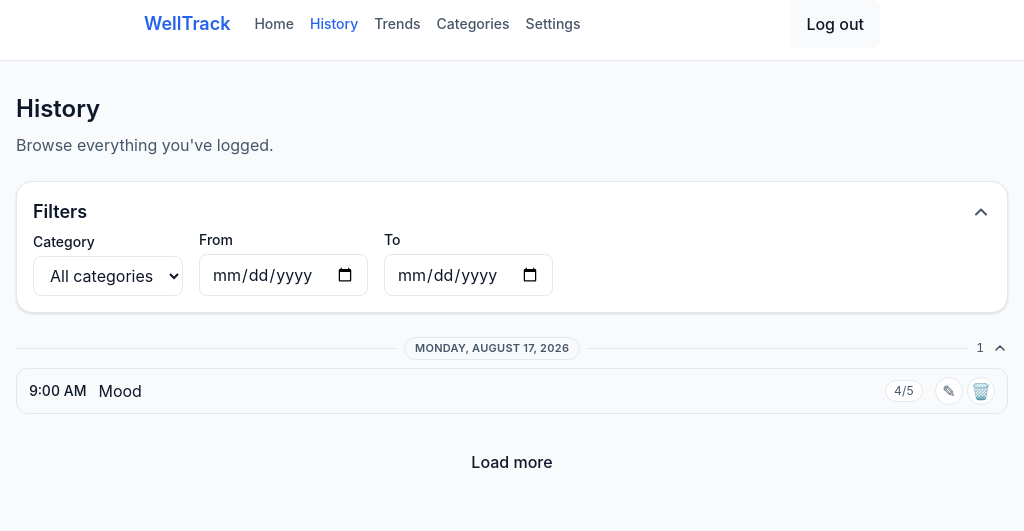
Test: HistoryPage › loads more entries and appends them when Load more is clicked
Expected: the text "4/5" is shown, top-left (885, 380), bottom-right (923, 402)
Click the button "Load more" at (512, 462), box top-left (455, 438), bottom-right (569, 486)
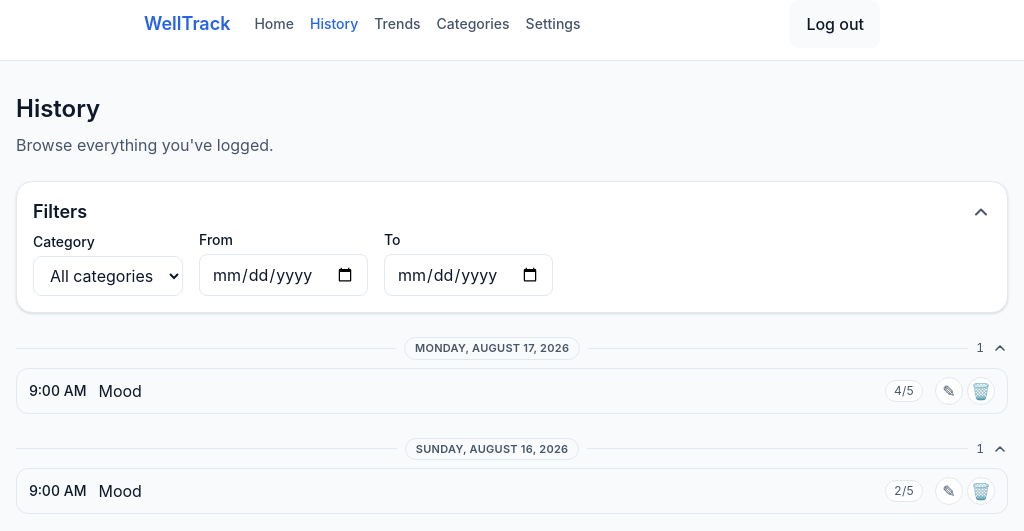
Now the text "2/5" is shown, box top-left (885, 480), bottom-right (923, 502)
Now the text "Mood" is shown 2 times, box top-left (98, 380), bottom-right (142, 400); top-left (98, 481), bottom-right (142, 501)
Now the button "Load more" is gone
